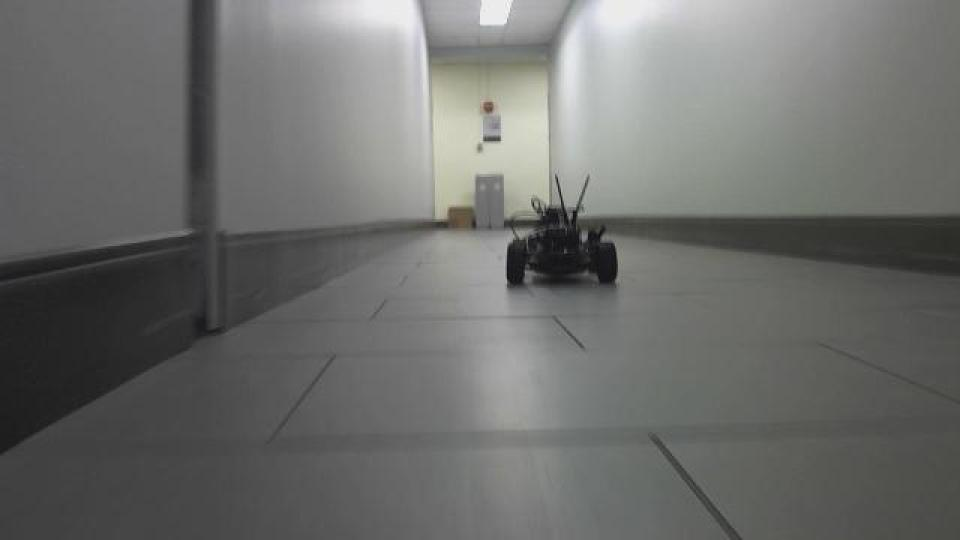car: (499, 170, 621, 290)
